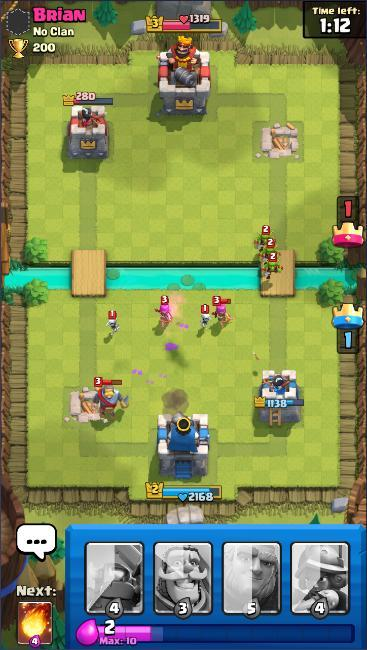enemy_archer: (208, 294, 238, 329), (153, 294, 175, 324)
enemy_goblin: (253, 224, 280, 255), (257, 236, 283, 264), (262, 252, 285, 281)
enemy_knight: (89, 376, 132, 420)
enemy_skeleton: (104, 308, 122, 338), (198, 303, 214, 333)
